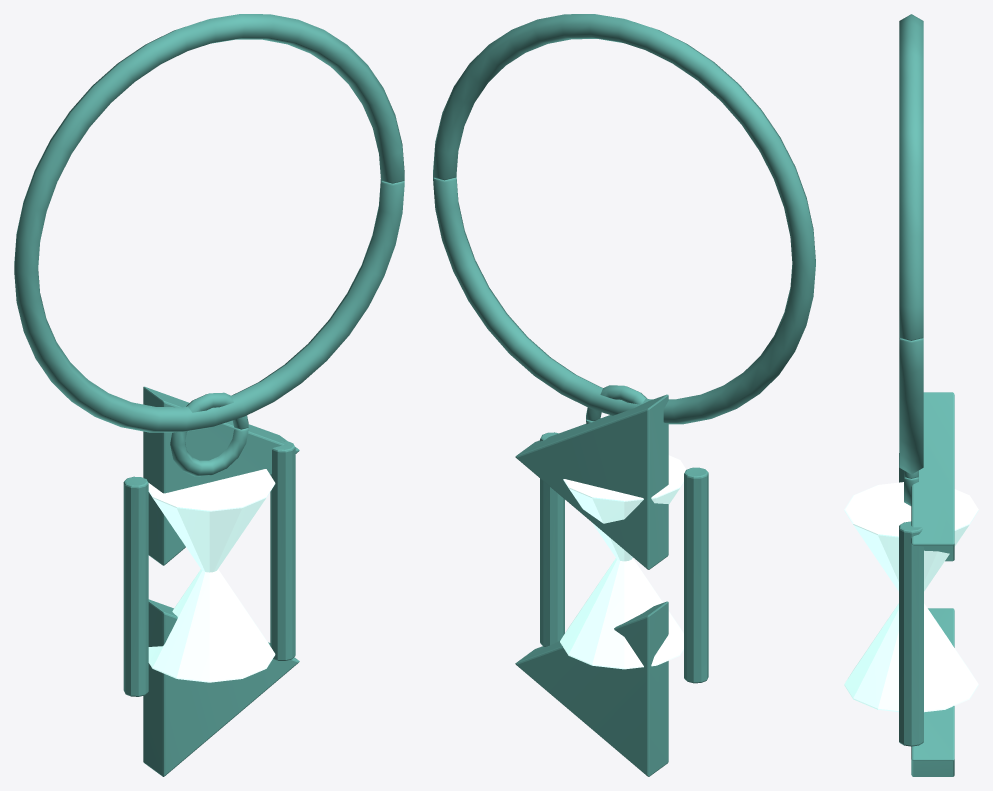
The model's file is item_083.glb.
The picture shows the model from 3 angles, left to right: view 1: azimuth 30°, elevation 25°; view 2: azimuth 150°, elevation 25°; view 3: azimuth 270°, elevation 25°; orthographic projection. The views are drawn at different scales.
Parts seen in each view (by area): view 1: Item_083_hourglass_pendant; view 2: Item_083_hourglass_pendant; view 3: Item_083_hourglass_pendant.
Part boxes in pixels (x1,y1,x2,y2): Item_083_hourglass_pendant: (14,14,404,776); Item_083_hourglass_pendant: (433,14,815,776); Item_083_hourglass_pendant: (844,14,978,776).
Size of the model in its own units: 0.4259 by 0.7789 by 0.1244.
